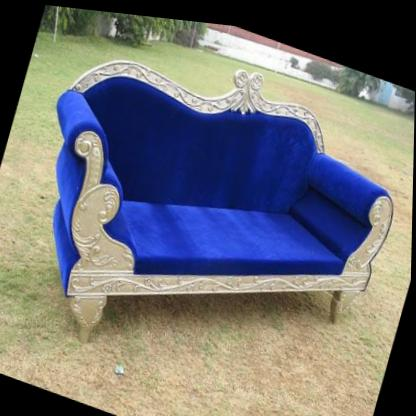Sofa: (0, 1, 416, 416)
